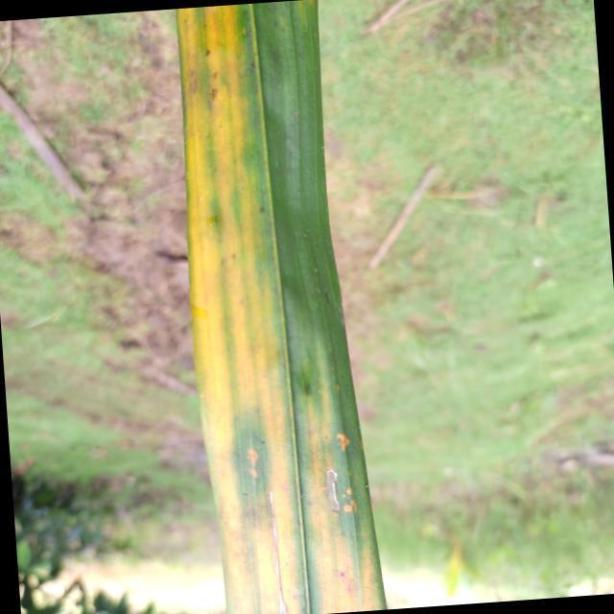Megnesium: (174, 1, 382, 614)
